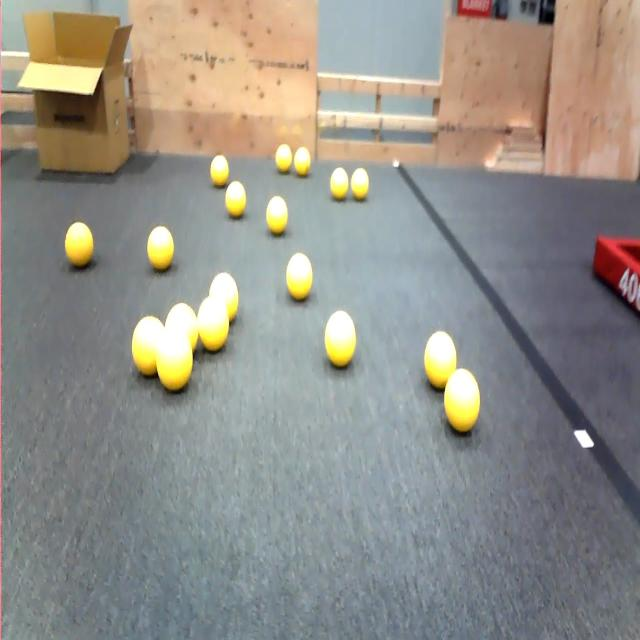fuel: (313, 297, 363, 376), (57, 212, 105, 284), (152, 325, 196, 400), (123, 313, 169, 383), (444, 363, 481, 441), (137, 211, 179, 279), (417, 327, 460, 391), (194, 292, 239, 350), (280, 249, 322, 307), (206, 272, 248, 327), (159, 300, 201, 345), (261, 190, 291, 244), (223, 174, 252, 224), (291, 135, 314, 182), (348, 163, 374, 204), (271, 138, 296, 178), (329, 160, 352, 203), (210, 149, 232, 186)
